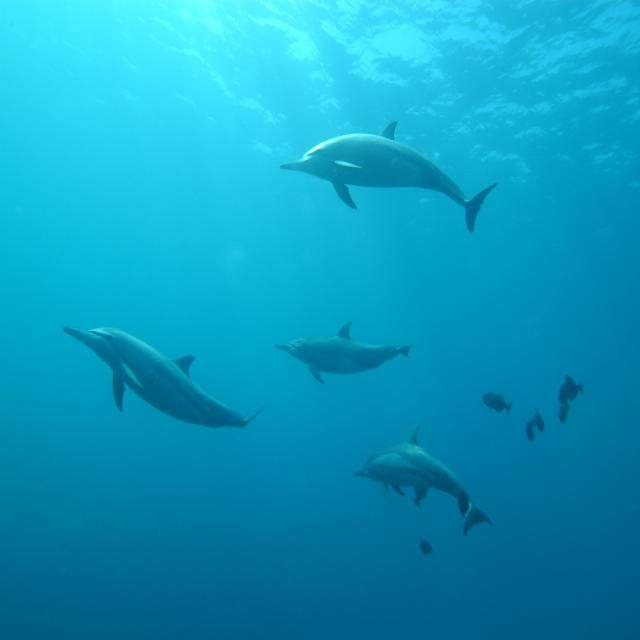dolphin: (40, 286, 266, 483), (280, 112, 532, 286), (267, 310, 442, 430), (359, 435, 502, 542)
